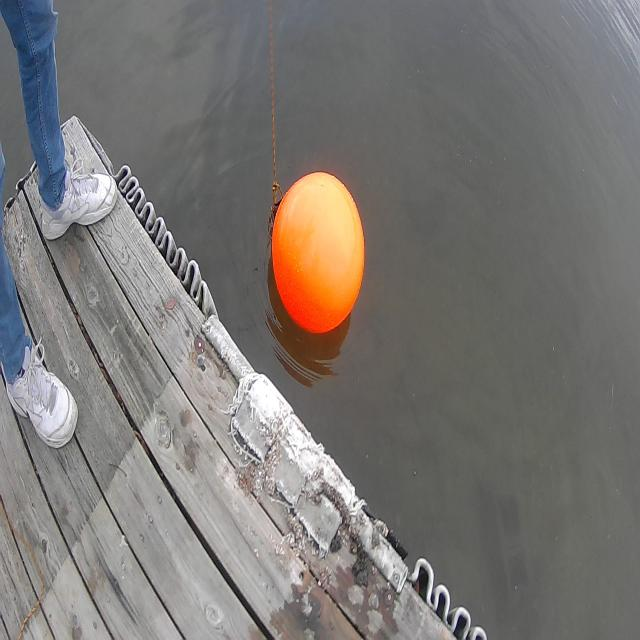Buoy: (260, 147, 373, 343)
